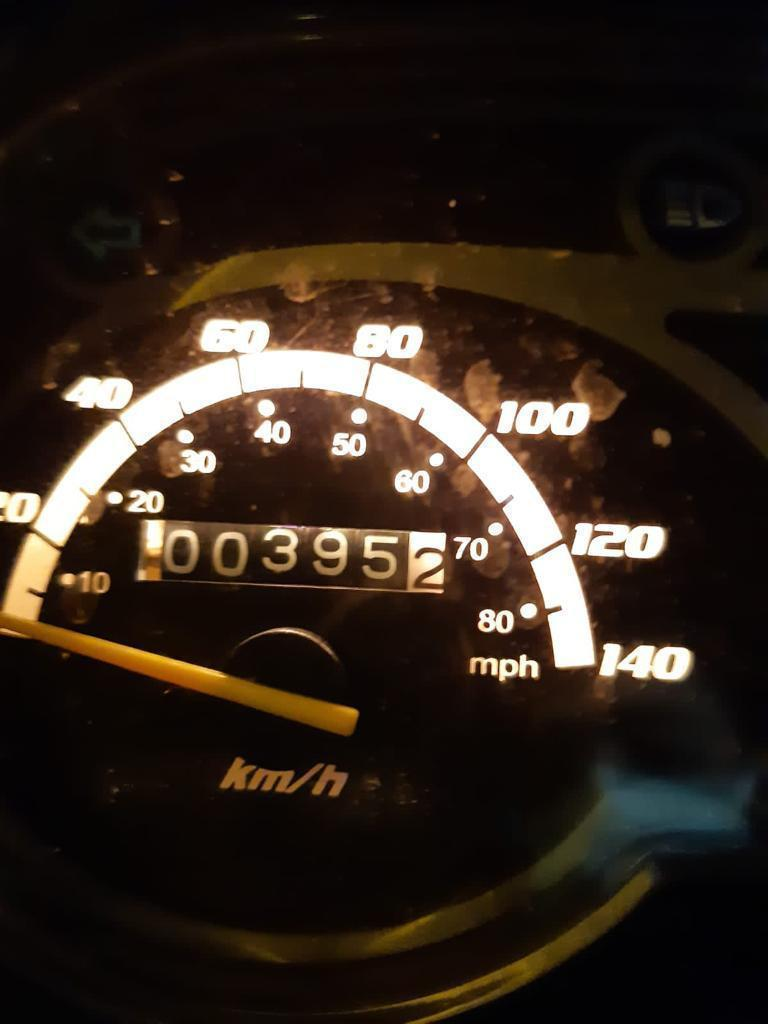0: (161, 526, 200, 576), (211, 529, 250, 579)
2: (411, 545, 447, 591)
3: (260, 526, 300, 574)
5: (360, 532, 399, 581)
9: (310, 528, 349, 577)
odometer: (128, 511, 456, 601)
